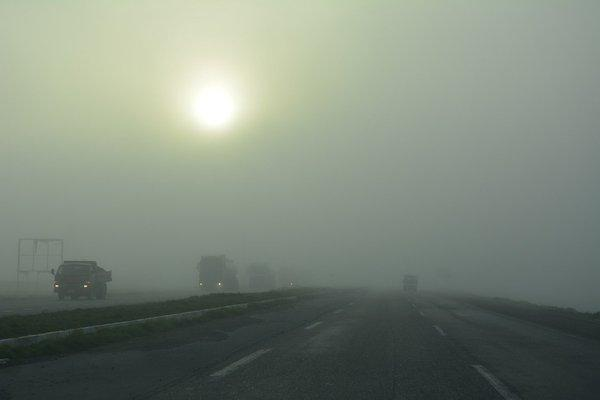bus: (50, 260, 112, 299), (194, 254, 240, 292), (246, 261, 277, 291)
car: (403, 274, 419, 292)
